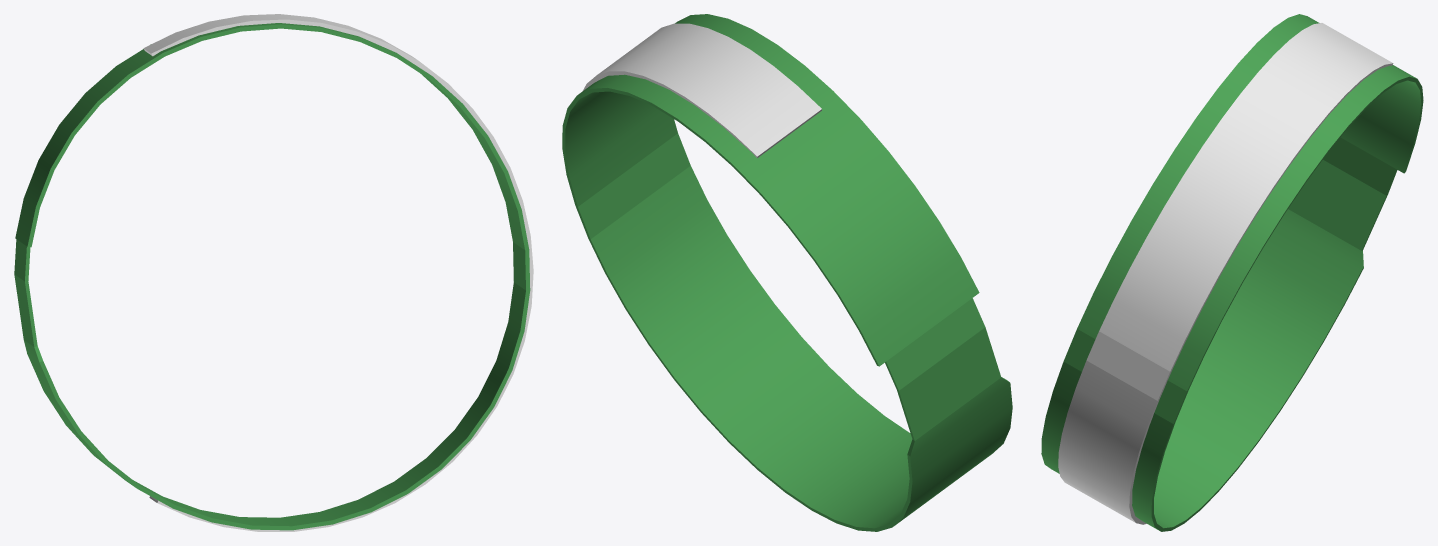
The model's file is wristbandnew.glb.
3 renders of one model, left to right at view 1: azimuth 30°, elevation 25°; view 2: azimuth 150°, elevation 25°; view 3: azimuth 270°, elevation 25°, orthographic. The views are drawn at different scales.
Visible parts, largest first — view 1: Mainarea, Printarea; view 2: Mainarea, Printarea; view 3: Mainarea, Printarea.
Part boxes in pixels (x1=…): Mainarea: x1=14, y1=23, x2=530, y2=530; Printarea: x1=143, y1=14, x2=533, y2=531; Mainarea: x1=562, y1=14, x2=1012, y2=531; Printarea: x1=582, y1=23, x2=821, y2=158; Mainarea: x1=1041, y1=14, x2=1423, y2=531; Printarea: x1=1058, y1=23, x2=1393, y2=524.
Bounding box in the file's own units: 2.07 × 2.08 × 1.49.
